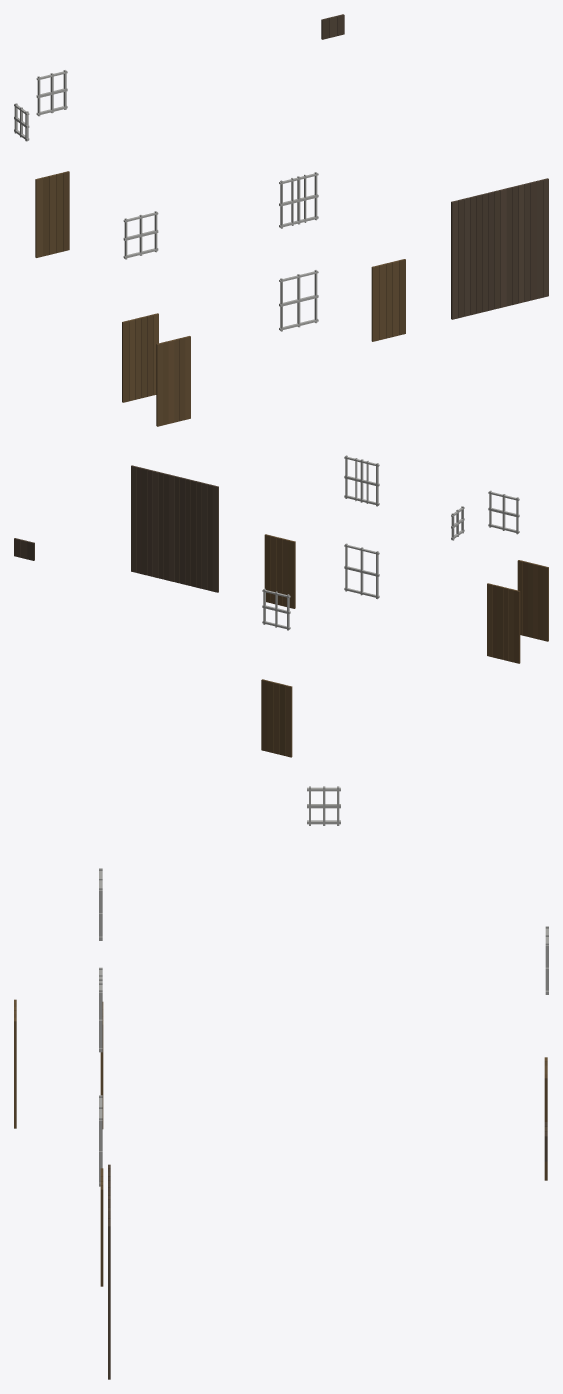
Rendered from SM_Bld_177_Wood.glb.
3 renders of one model, top to bottom at view 1: azimuth 30°, elevation 25°; view 2: azimuth 150°, elevation 25°; view 3: azimuth 270°, elevation 25°, orthographic. The views are drawn at different scales.
Visible parts, largest first — view 1: SM_Bld_177_Wood; view 2: SM_Bld_177_Wood; view 3: SM_Bld_177_Wood.
Boxes of the visible parts, <box> form: SM_Bld_177_Wood: <box>14,14,548,426</box>; SM_Bld_177_Wood: <box>14,455,548,757</box>; SM_Bld_177_Wood: <box>14,786,548,1379</box>.
Size of the model in its own units: 11.94 by 6.05 by 9.49.
